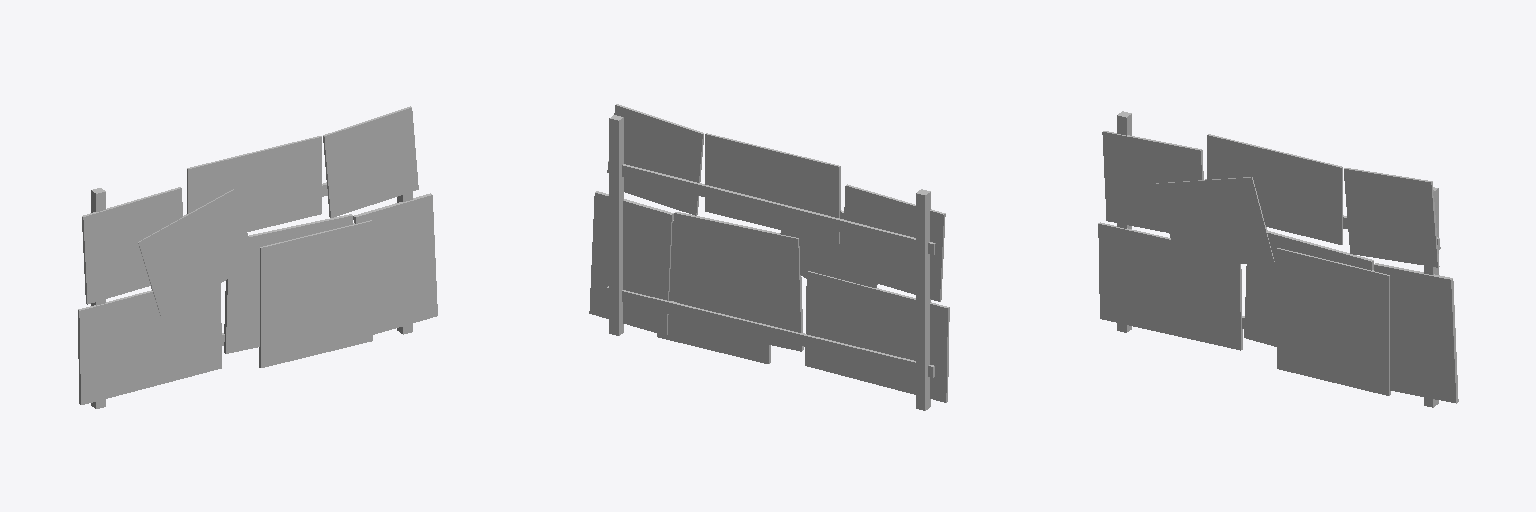
The model's file is Fence_Planes.obj.
The picture shows the model from 3 angles: view 1: azimuth 30°, elevation 25°; view 2: azimuth 150°, elevation 25°; view 3: azimuth 330°, elevation 25°; orthographic projection.
Visible parts, largest first — view 1: Fence_Planes_Cube.020; view 2: Fence_Planes_Cube.020; view 3: Fence_Planes_Cube.020.
Part boxes in pixels (left/top/right/bottom): Fence_Planes_Cube.020: left=78, top=106, right=437, bottom=408; Fence_Planes_Cube.020: left=589, top=104, right=949, bottom=410; Fence_Planes_Cube.020: left=1098, top=111, right=1458, bottom=407.
Size of the model in its own units: 4.68 by 2.82 by 0.1735.